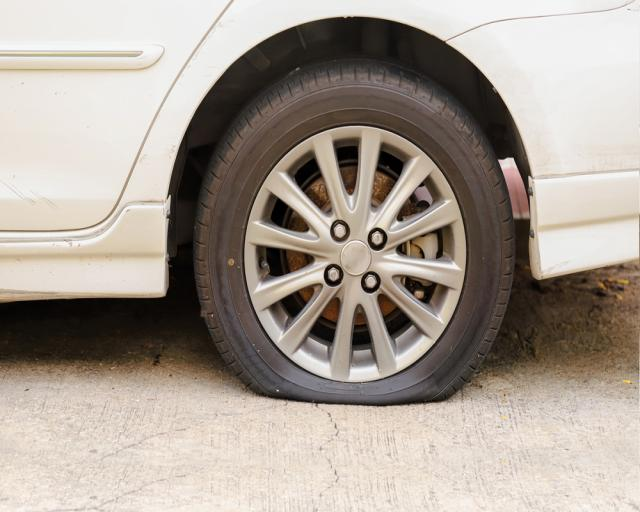tire flat: (194, 57, 517, 407)
